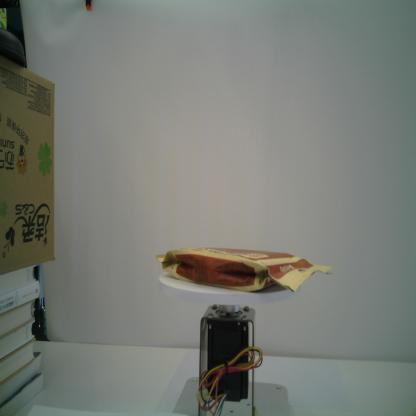Dried Food: (154, 245, 335, 296)
